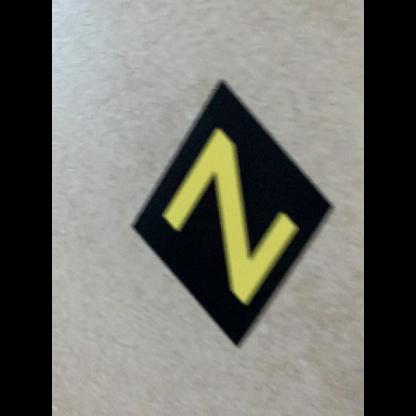z: (129, 77, 338, 351)
